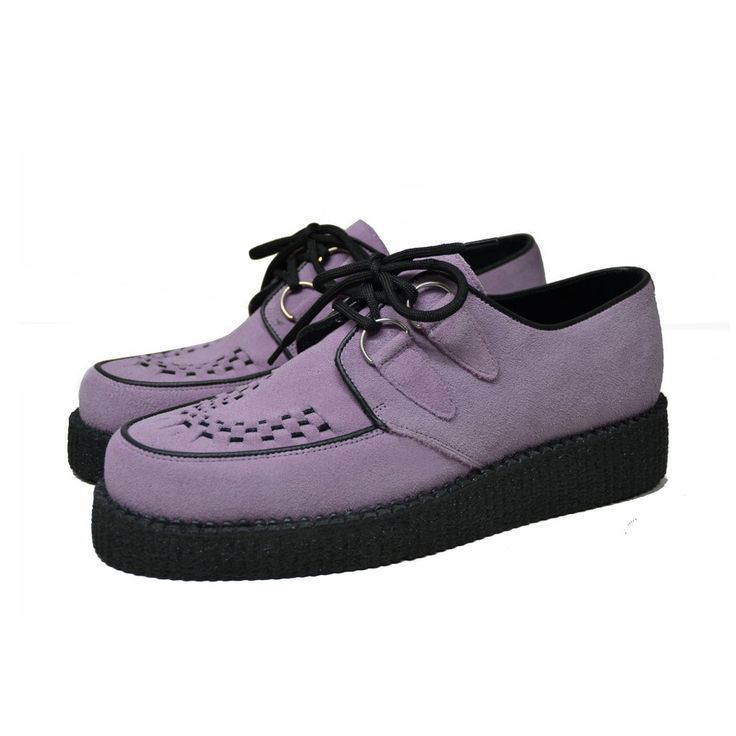gamuza: (77, 218, 663, 526)
